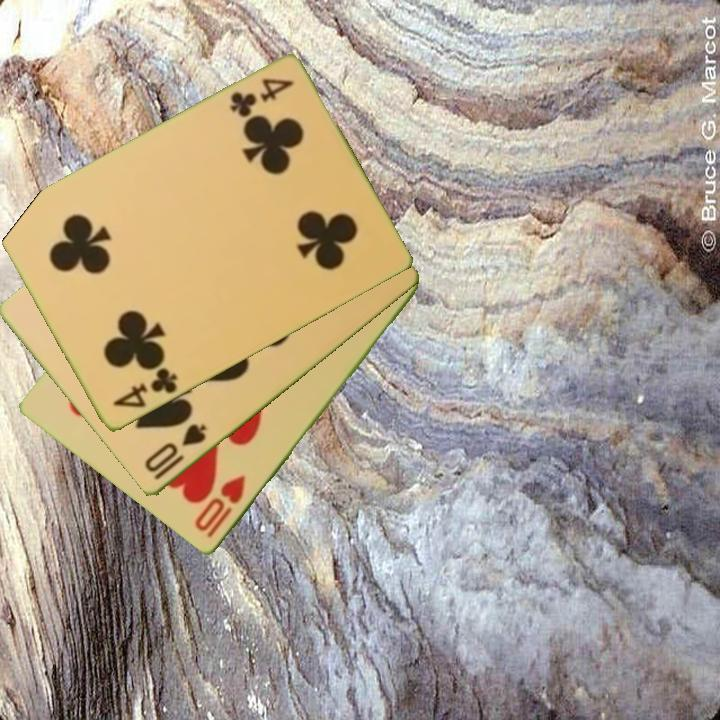10h: (191, 472, 249, 542)
10s: (141, 420, 210, 484)
4c: (109, 364, 180, 412), (226, 75, 297, 121)
